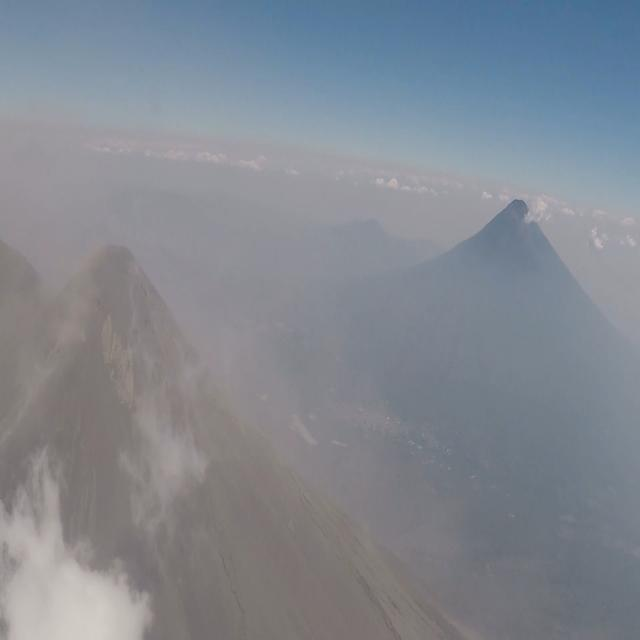Summit: (28, 238, 230, 408)
